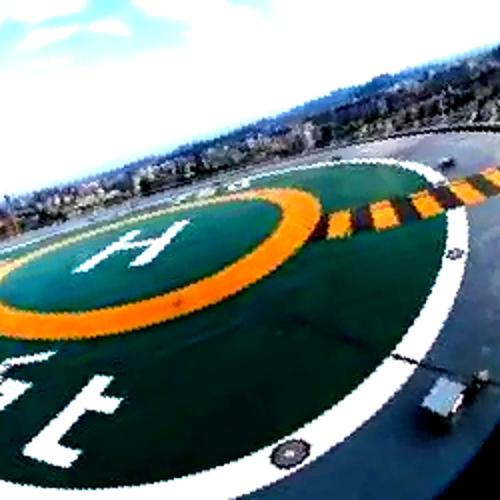Apron: (1, 182, 325, 346)
